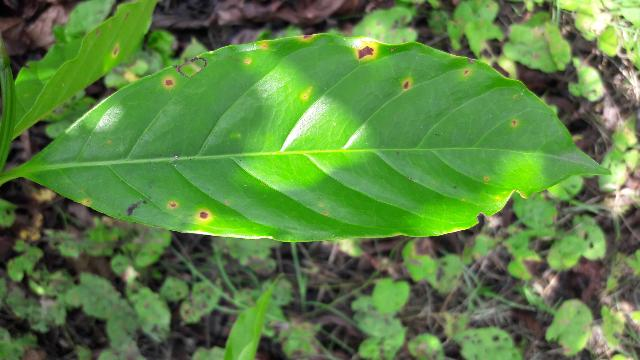rust_level_1: (16, 32, 624, 245)
